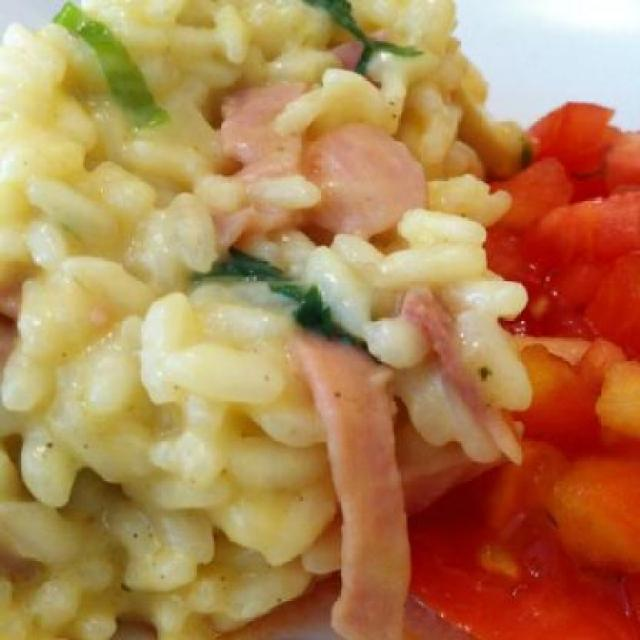Risotto: (2, 4, 544, 633)
